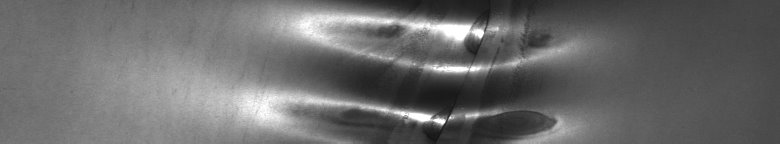ke: (280, 4, 572, 136)
